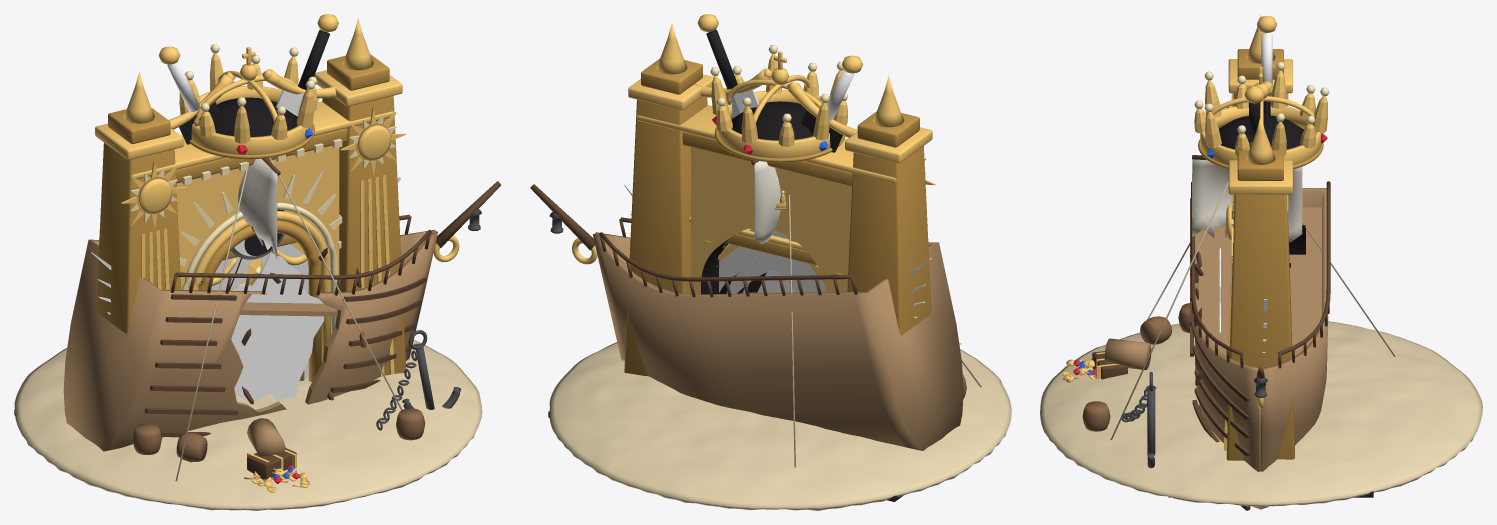
Rendered from Gates.glb.
The picture shows the model from 3 angles, left to right: view 1: azimuth 30°, elevation 25°; view 2: azimuth 150°, elevation 25°; view 3: azimuth 270°, elevation 25°; orthographic projection. The views are drawn at different scales.
Parts seen in each view (by area): view 1: GateFallen__Sand_S1, GateFallen__Plank_S1, GateGolden__Gold_1, GateGolden__GoldDeep_S1, GateFallen__WoodDark_1, GateFallen__Glow_1, GateGolden__Gold_S1, GateGolden__GoldDeep_1, GateGolden__GoldPale_1, GateFallen__Fabric_1, GateFallen__Wood_1, GateFallen__Plank_1 (+8 smaller); view 2: GateFallen__Plank_S1, GateFallen__Sand_S1, GateGolden__GoldDeep_S1, GateGolden__Gold_1, GateGolden__Gold_S1, GateGolden__GoldDeep_1, GateFallen__WoodDark_1, GateReturn__Marble_S1, GateGolden__Ink_1, GateFallen__Fabric_1, GateBrothers__Gold_1, GateParty__GoldDeep_1 (+5 smaller); view 3: GateFallen__Sand_S1, GateGolden__GoldDeep_S1, GateFallen__Plank_S1, GateGolden__Gold_1, GateFallen__Plank_1, GateFallen__WoodDark_1, GateFallen__Fabric_1, GateGolden__GoldDeep_1, GateFallen__Wood_1, GateGolden__Ink_1, GateFallen__Iron_1, GateFallen__Rope_1 (+4 smaller).
Boxes of the visible parts, <box> form: GateFallen__Sand_S1: <box>14,340,482,510</box>; GateFallen__Plank_S1: <box>63,229,438,451</box>; GateGolden__Gold_1: <box>95,18,405,376</box>; GateGolden__GoldDeep_S1: <box>96,95,406,375</box>; GateFallen__WoodDark_1: <box>99,158,500,479</box>; GateFallen__Glow_1: <box>231,253,324,402</box>; GateGolden__Gold_S1: <box>176,145,339,292</box>; GateGolden__GoldDeep_1: <box>108,54,389,381</box>; GateGolden__GoldPale_1: <box>130,44,396,333</box>; GateFallen__Fabric_1: <box>237,158,277,258</box>; GateFallen__Wood_1: <box>132,408,425,462</box>; GateFallen__Plank_1: <box>211,290,337,456</box>; GateFallen__Plank_S1: <box>593,232,963,450</box>; GateFallen__Sand_S1: <box>549,342,1011,510</box>; GateGolden__GoldDeep_S1: <box>624,97,931,375</box>; GateGolden__Gold_1: <box>628,23,935,185</box>; GateGolden__Gold_S1: <box>691,147,851,294</box>; GateGolden__GoldDeep_1: <box>641,58,919,186</box>; GateFallen__WoodDark_1: <box>530,160,857,297</box>; GateReturn__Marble_S1: <box>719,230,826,293</box>; GateGolden__Ink_1: <box>701,101,812,294</box>; GateFallen__Fabric_1: <box>754,161,780,243</box>; GateBrothers__Gold_1: <box>694,14,862,137</box>; GateParty__GoldDeep_1: <box>700,208,842,274</box>; GateFallen__Sand_S1: <box>1040,321,1482,507</box>; GateGolden__GoldDeep_S1: <box>1226,93,1294,460</box>; GateFallen__Plank_S1: <box>1193,188,1328,509</box>; GateGolden__Gold_1: <box>1194,14,1327,450</box>; GateFallen__Plank_1: <box>1104,207,1322,370</box>; GateFallen__WoodDark_1: <box>1092,155,1330,510</box>; GateFallen__Fabric_1: <box>1192,159,1302,242</box>; GateGolden__GoldDeep_1: <box>1198,49,1323,180</box>; GateFallen__Wood_1: <box>1082,303,1189,431</box>; GateGolden__Ink_1: <box>1219,115,1305,254</box>; GateFallen__Iron_1: <box>1121,371,1267,468</box>; GateFallen__Rope_1: <box>1110,181,1395,439</box>.
Size of the model in its own units: 72.64 by 67.37 by 64.67.
